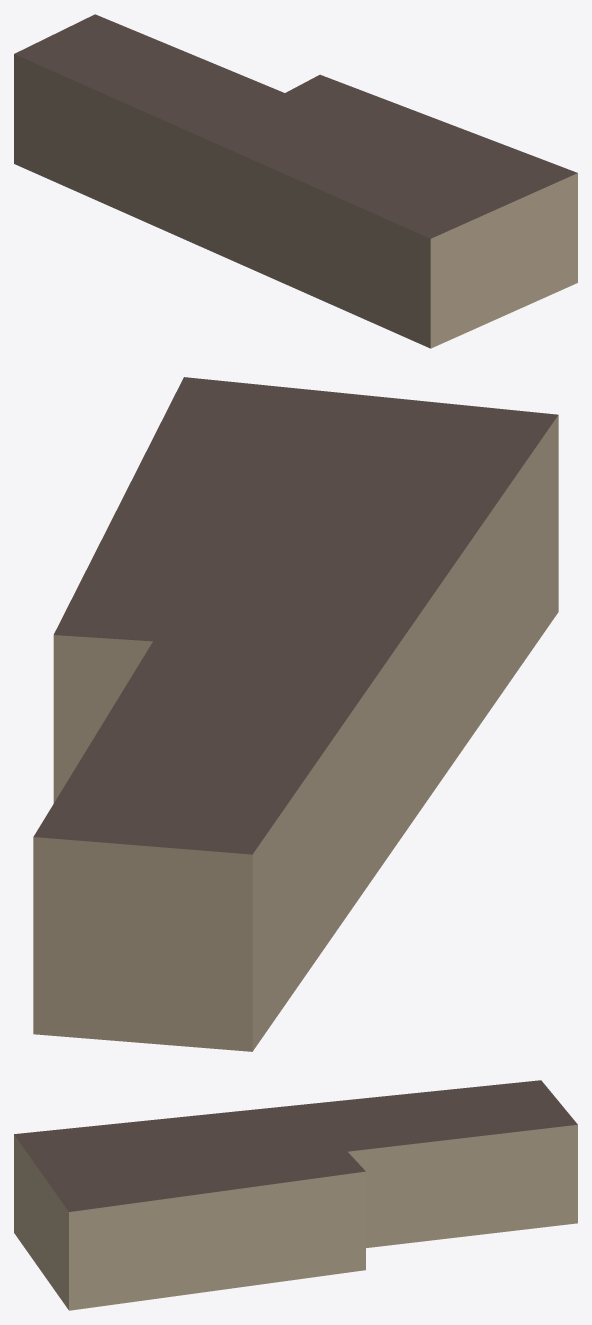
The picture shows the model from 3 angles, top to bottom: view 1: azimuth 30°, elevation 25°; view 2: azimuth 150°, elevation 25°; view 3: azimuth 270°, elevation 25°; orthographic projection. The views are drawn at different scales.
Parts seen in each view (by area): view 1: HP-w1512911310; view 2: HP-w1512911310; view 3: HP-w1512911310.
Boxes of the visible parts, box(x1,y1,x2,y2) form: HP-w1512911310: box(14, 14, 577, 348); HP-w1512911310: box(33, 377, 558, 1051); HP-w1512911310: box(14, 1080, 577, 1310).
Bounding box in the file's own units: 25.81 × 9 × 46.63.
